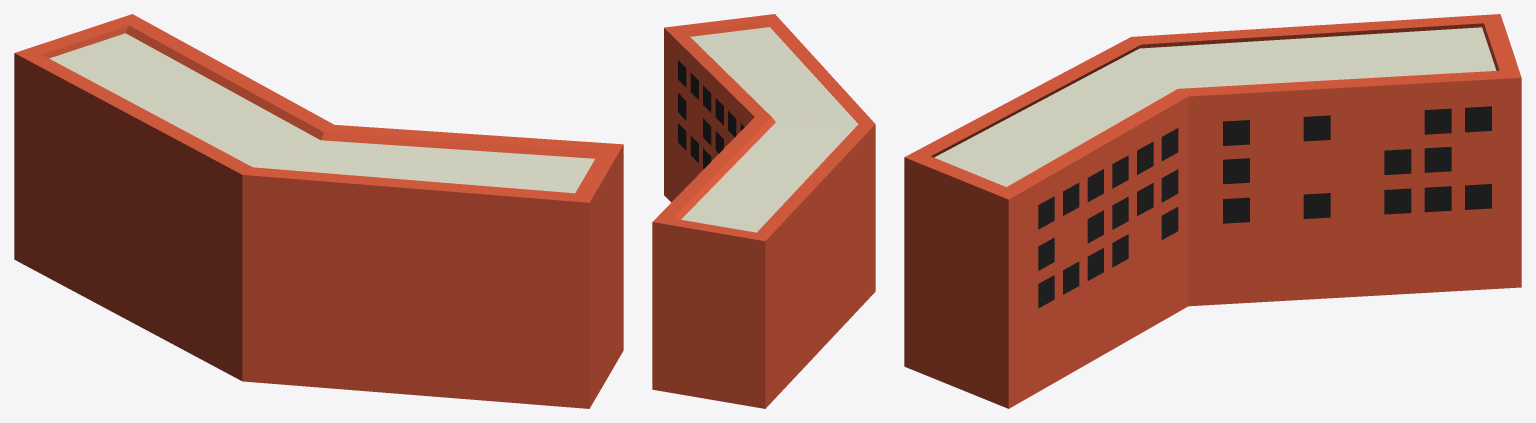
The model's file is Digital Hall.fbx.
3 views of the same model, side by side, from view 1: azimuth 30°, elevation 25°; view 2: azimuth 150°, elevation 25°; view 3: azimuth 270°, elevation 25° (orthographic). The views are drawn at different scales.
Visible parts, largest first — view 1: Digital; view 2: Digital; view 3: Digital.
Part boxes in pixels (<box>): Digital: <box>14,14,623,408</box>; Digital: <box>652,14,875,408</box>; Digital: <box>904,14,1521,408</box>.
Bounding box in the file's own units: 365 × 199 × 523.
